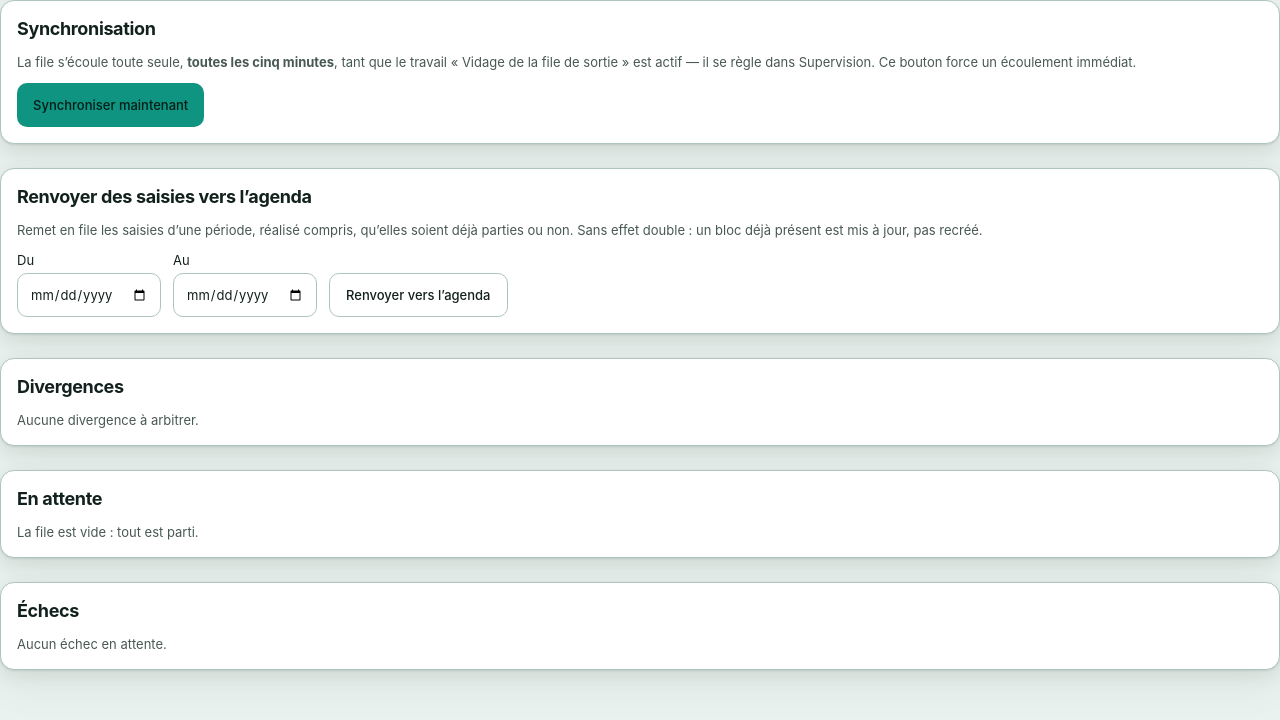
Test: synchroniser maintenant › rend compte de ce qui a été fait
This screenshot has width=1280, height=720.
Click the button "Synchroniser maintenant".
click(111, 105)  # box [17,83,204,127]
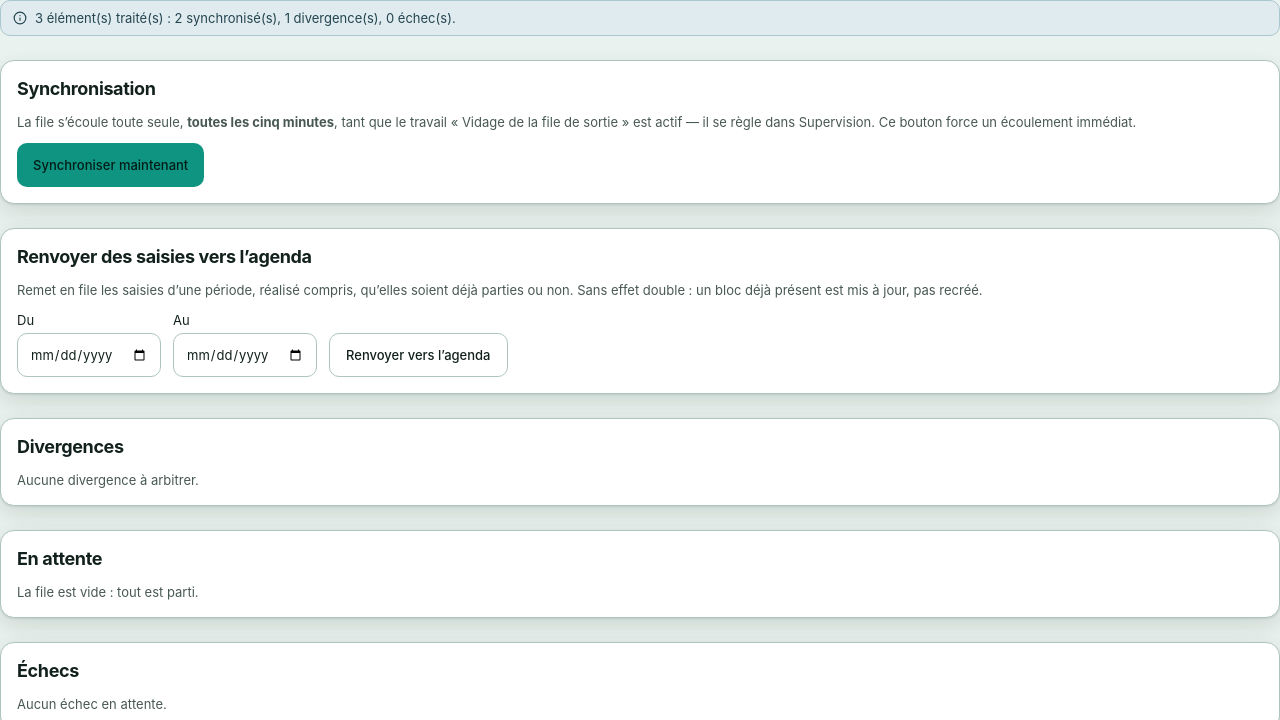
Now the message reads "3 élément(s) traité(s) : 2 synchronisé(s), 1 divergence(s), 0 échec(s).", box [35,10,456,26]
